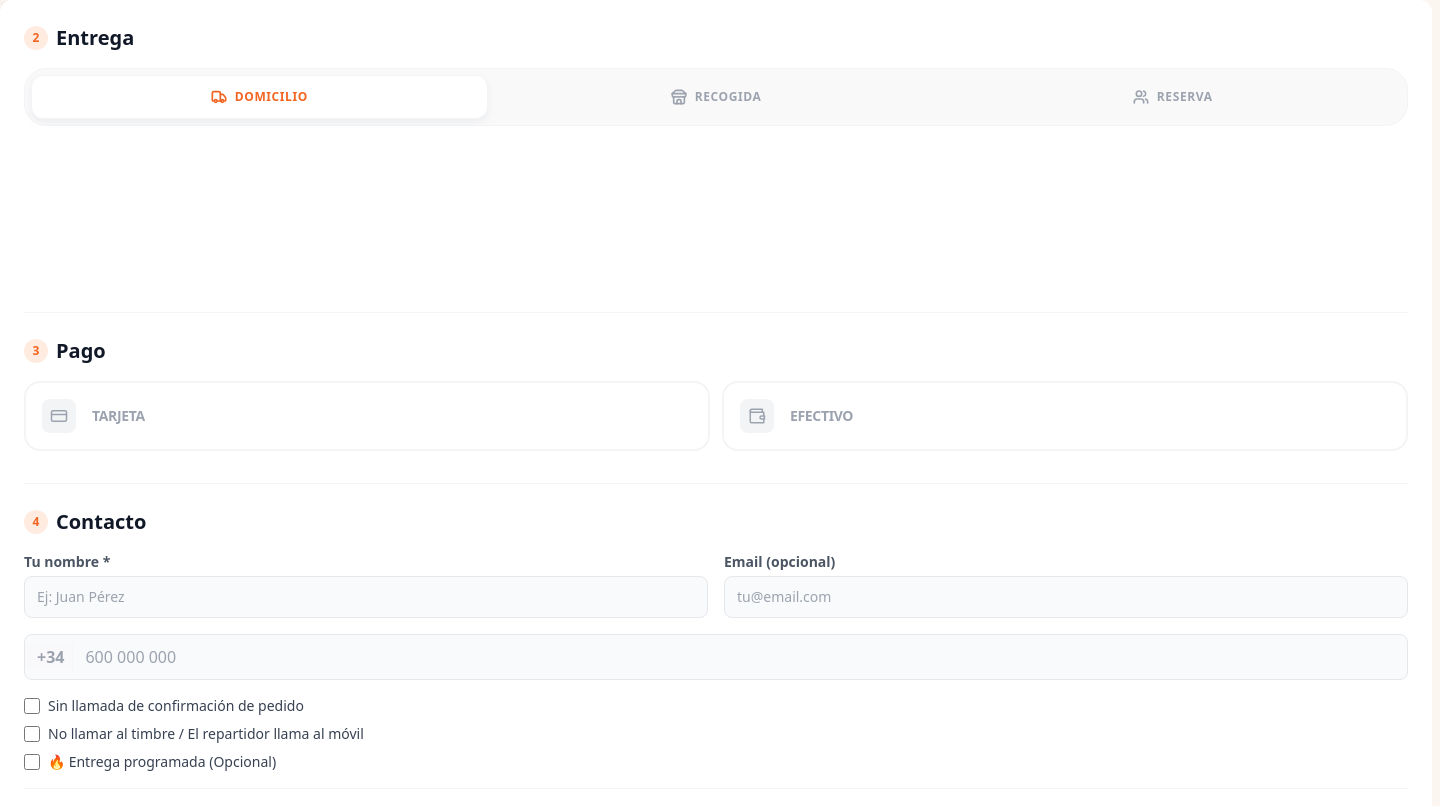
Test: DeliveryForm › switches between delivery types
Click the button "Recogida".
click(716, 97)  # box [488,75,944,119]
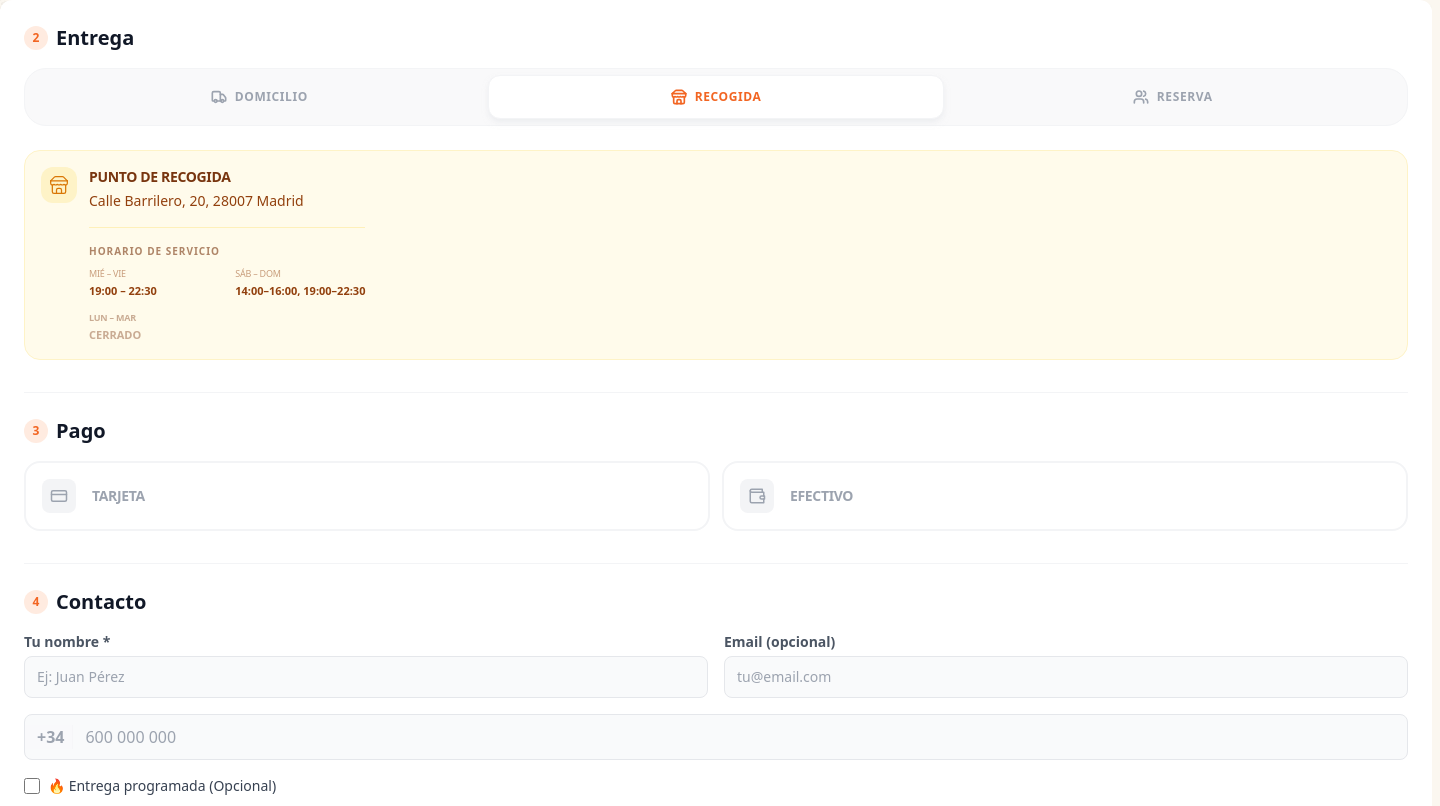
expect the text "Punto de Recogida" is shown: met, box [89,167,230,186]
